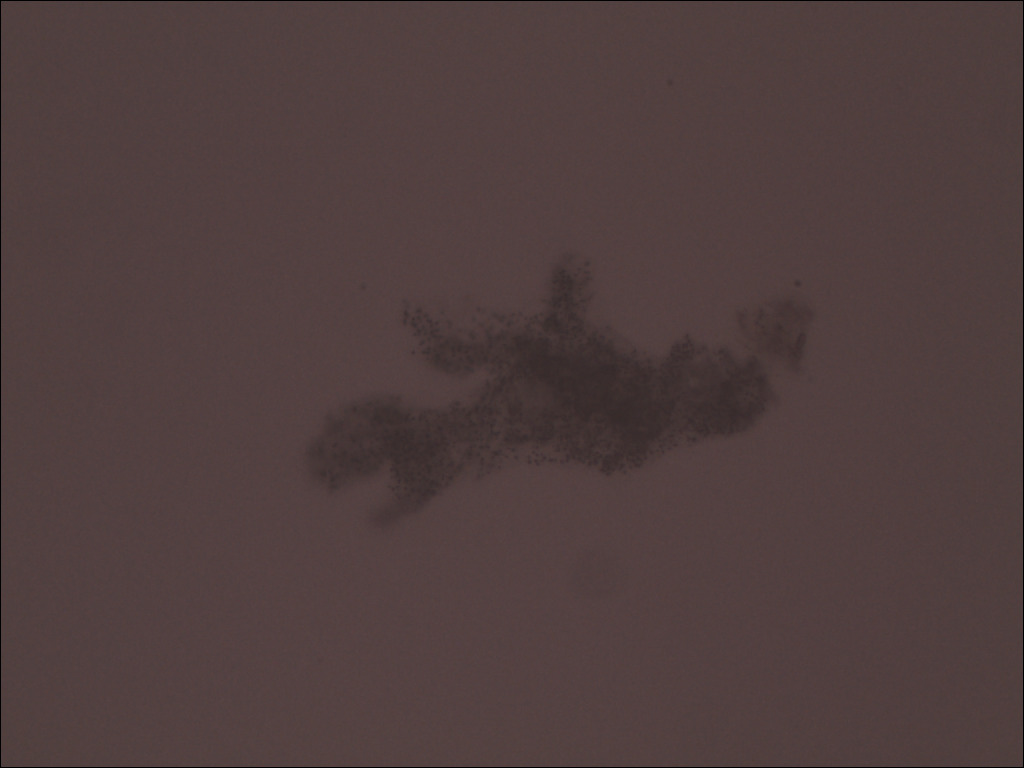amoeba: (291, 236, 831, 546)
